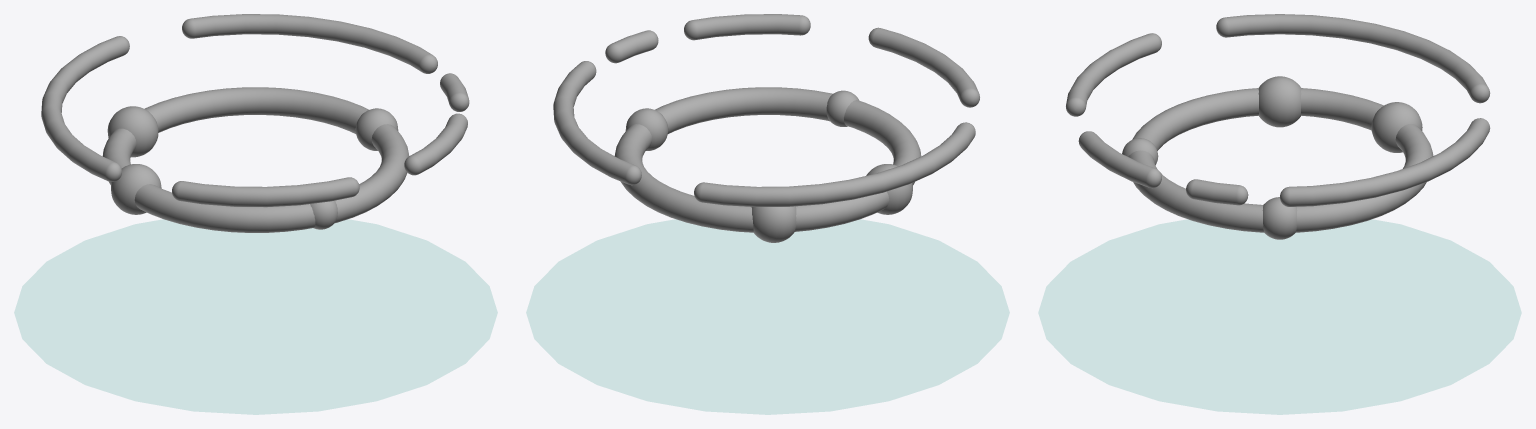
File: Floor+sky.fbx
The picture shows the model from 3 angles, left to right: view 1: azimuth 30°, elevation 25°; view 2: azimuth 150°, elevation 25°; view 3: azimuth 270°, elevation 25°; orthographic projection.
Visible parts, largest first — view 1: pDisc1, Ring2, Ring3, pSphere4, pSphere1, pSphere3, pSphere6; view 2: pDisc1, Ring2, Ring3, pSphere4, pSphere3, pSphere1, pSphere6; view 3: pDisc1, Ring2, Ring3, pSphere1, pSphere4, pSphere3, pSphere6.
Part boxes in pixels (box(x1,y1,x2,y2)): pDisc1: box(14, 219, 497, 414); Ring2: box(41, 14, 469, 207); Ring3: box(102, 87, 409, 232); pSphere4: box(107, 106, 158, 157); pSphere1: box(111, 164, 161, 214); pSphere3: box(355, 108, 398, 150); pSphere6: box(310, 200, 337, 229); pDisc1: box(526, 219, 1009, 414); Ring2: box(553, 14, 979, 207); Ring3: box(614, 87, 921, 232); pSphere4: box(751, 206, 796, 242); pSphere3: box(625, 108, 668, 150); pSphere1: box(866, 164, 912, 214); pSphere6: box(826, 90, 859, 126); pDisc1: box(1038, 219, 1521, 414); Ring2: box(1066, 14, 1490, 206); Ring3: box(1128, 88, 1433, 232); pSphere1: box(1258, 76, 1301, 127); pSphere4: box(1371, 102, 1422, 152); pSphere3: box(1262, 197, 1297, 239); pSphere6: box(1122, 138, 1158, 165).
Size of the model in its own units: 20435 by 9853 by 20435.
